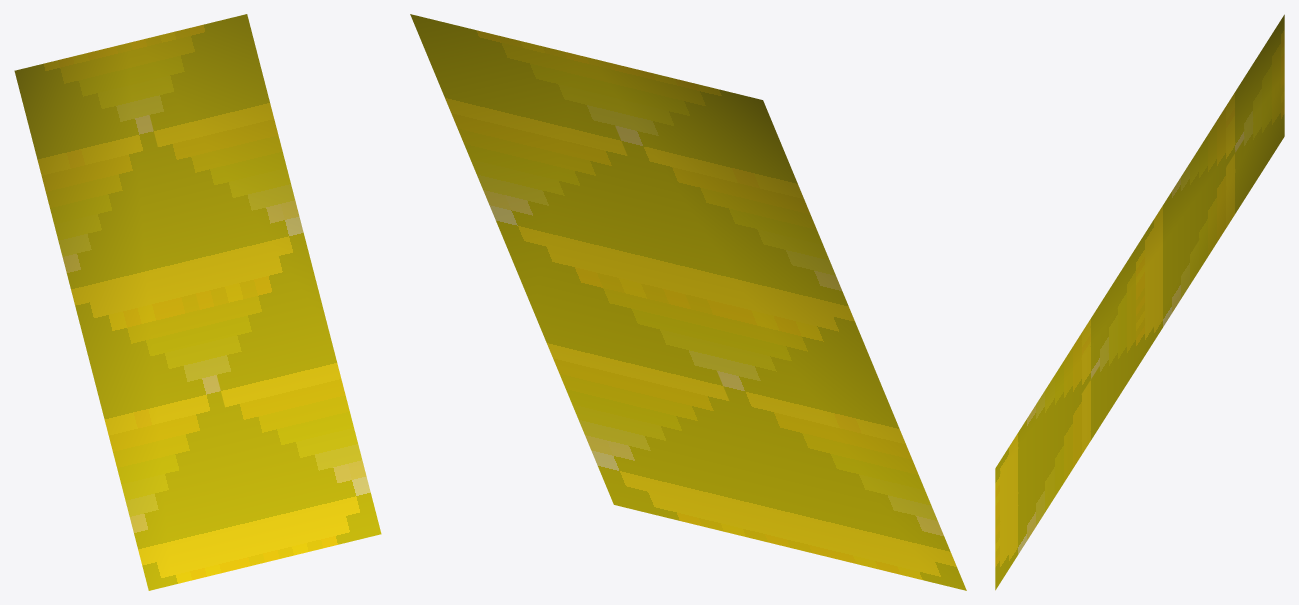
The picture shows the model from 3 angles, left to right: view 1: azimuth 30°, elevation 25°; view 2: azimuth 150°, elevation 25°; view 3: azimuth 270°, elevation 25°; orthographic projection. The views are drawn at different scales.
Size of the model in its own units: 1 by 1.73 by 1.
1 material, 1 textured.
